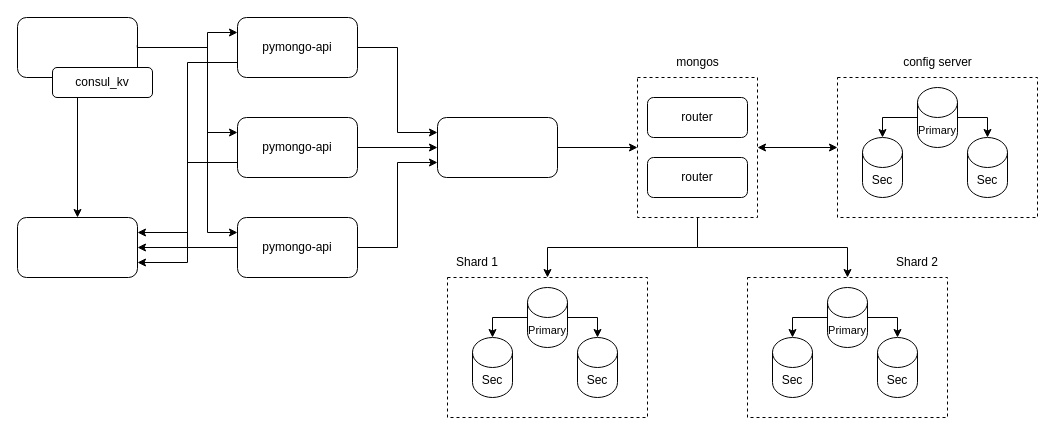
Image size: 1055x435. Some labels were removed from this diagram. The box of each missing label's shape, as (x1, y1, x2, y2) in pixels:
API Gateway: (16, 16, 138, 78)
Consul: (16, 216, 138, 278)
Redis: (436, 116, 558, 178)
